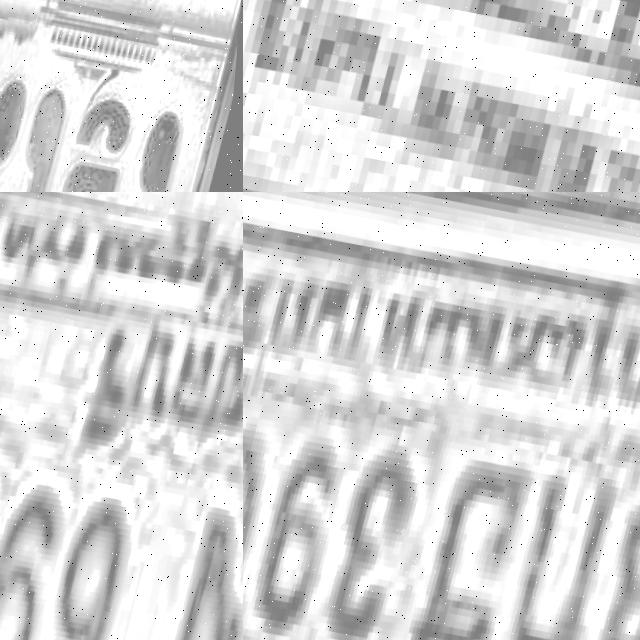license-plate: (243, 192, 640, 640), (0, 192, 243, 640), (243, 0, 640, 192), (0, 0, 243, 192)
